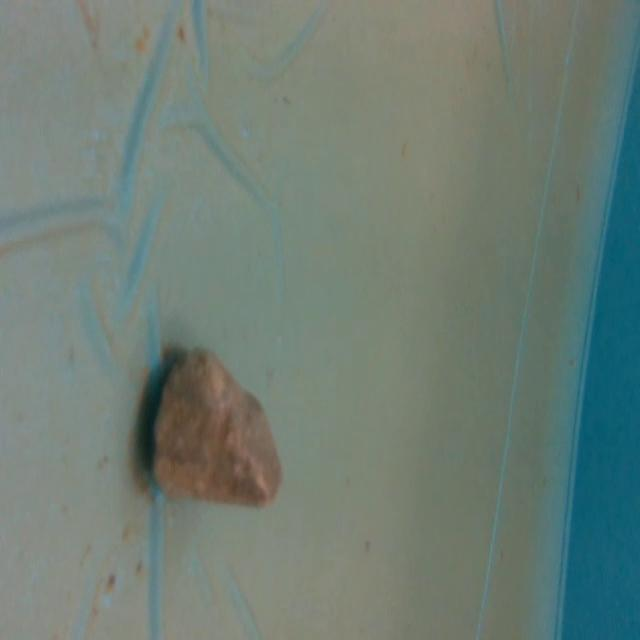rock: (141, 339, 287, 513)
